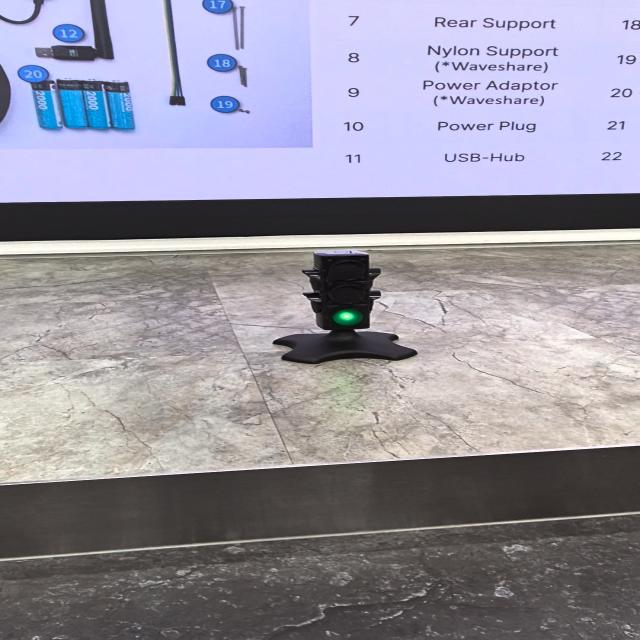green_light: (333, 310, 363, 326)
